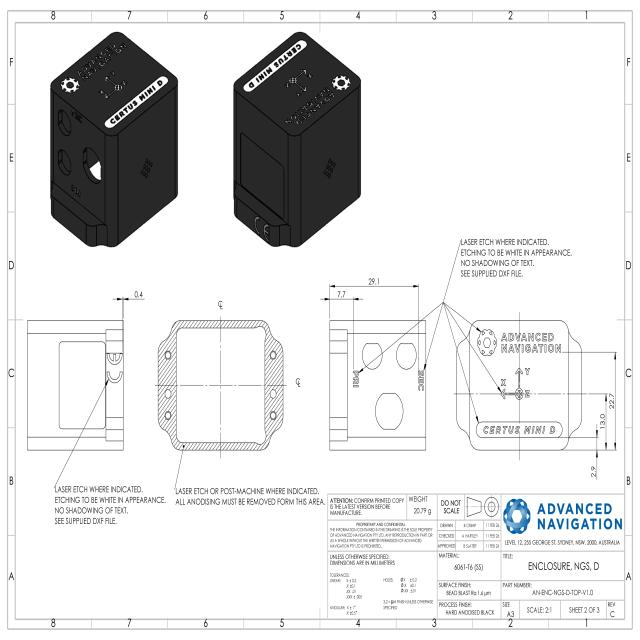dimension: (326, 277, 420, 293), (608, 349, 620, 454), (318, 289, 364, 308), (587, 422, 600, 482), (599, 389, 610, 454), (112, 290, 145, 310)
